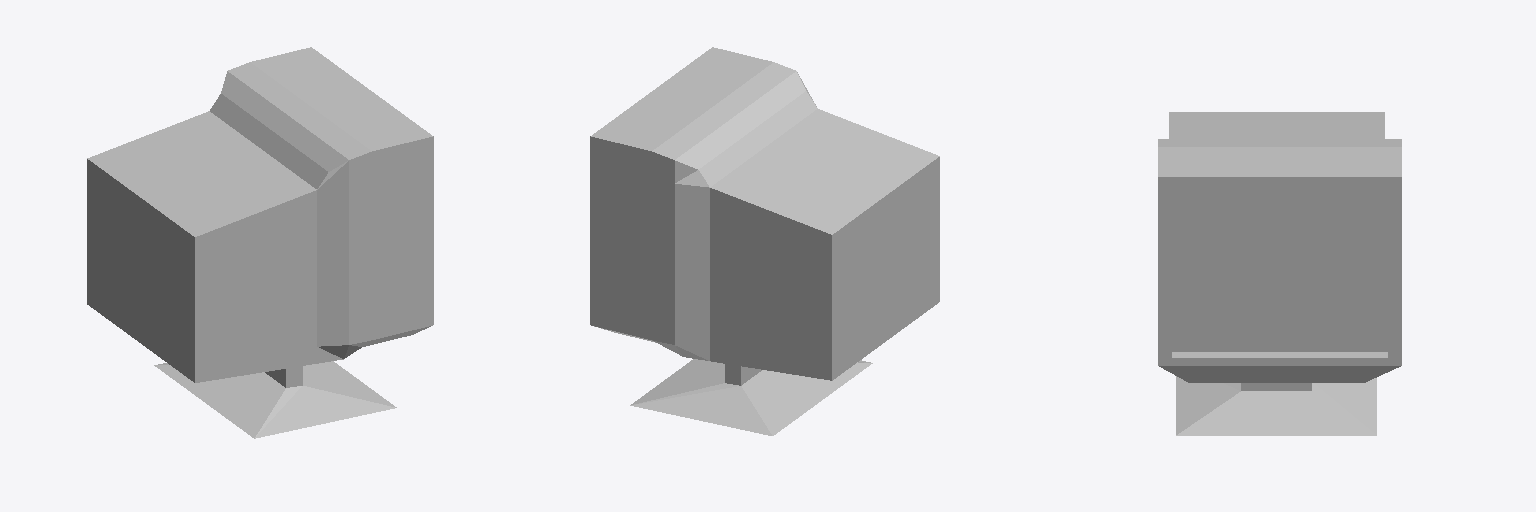
The model's file is ComputerModel.obj.
3 renders of one model, left to right at view 1: azimuth 30°, elevation 25°; view 2: azimuth 150°, elevation 25°; view 3: azimuth 270°, elevation 25°, orthographic.
Parts seen in each view (by area): view 1: Cube; view 2: Cube; view 3: Cube.
Part boxes in pixels (x1,y1,x2,y2): Cube: (87,47,433,438); Cube: (590,47,939,435); Cube: (1158,112,1401,435).
Size of the model in its own units: 3.84 by 4.28 by 3.48.